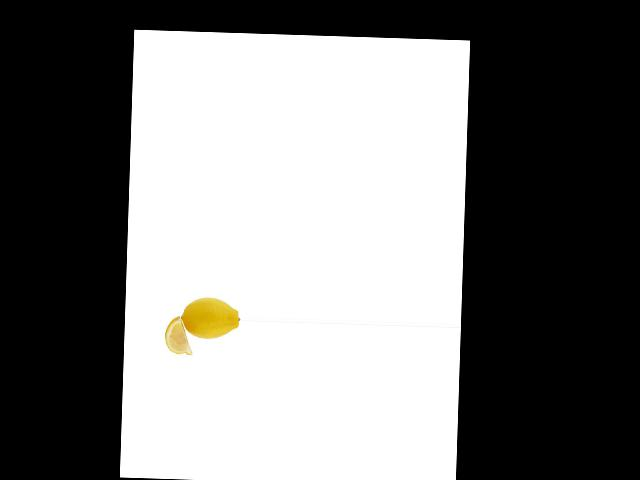lemon: (178, 294, 241, 342)
